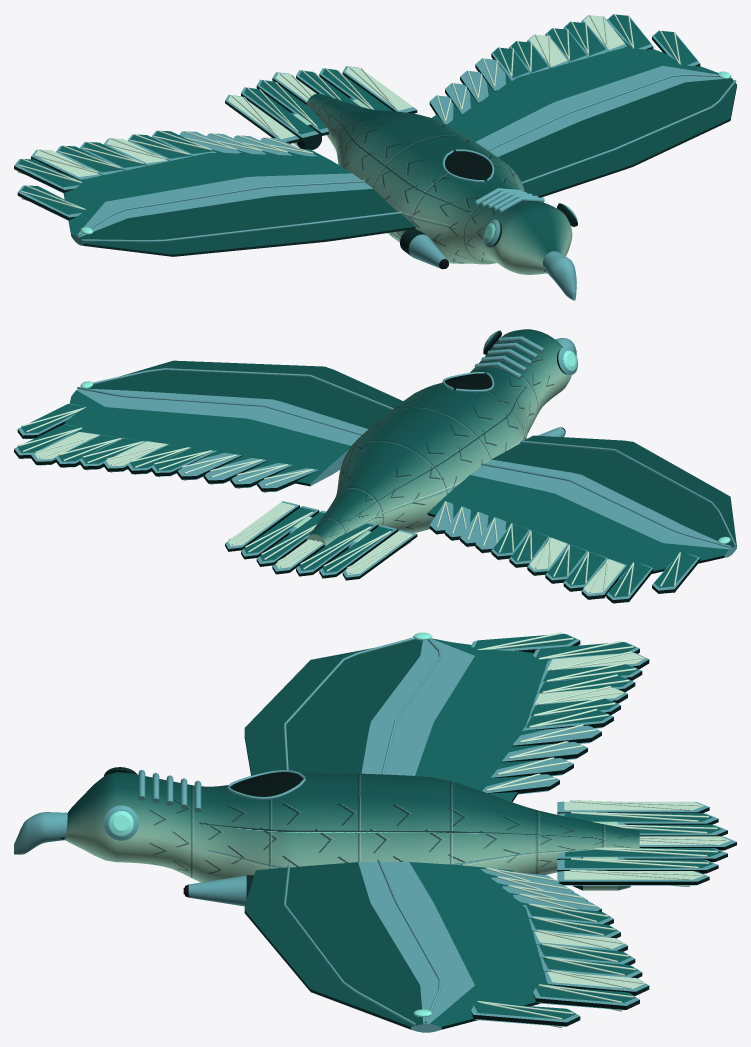
The picture shows the model from 3 angles, top to bottom: view 1: azimuth 30°, elevation 25°; view 2: azimuth 150°, elevation 25°; view 3: azimuth 270°, elevation 25°; orthographic projection. The views are drawn at different scales.
Visible parts, largest first — view 1: golden_eagle_hull; view 2: golden_eagle_hull; view 3: golden_eagle_hull.
Part boxes in pixels (bbox=[...]): golden_eagle_hull: bbox=[14, 14, 736, 300]; golden_eagle_hull: bbox=[14, 329, 736, 603]; golden_eagle_hull: bbox=[14, 632, 736, 1032].
Size of the model in its own units: 264 by 41.17 by 208.
Materials: 1 (1 with a texture image).
